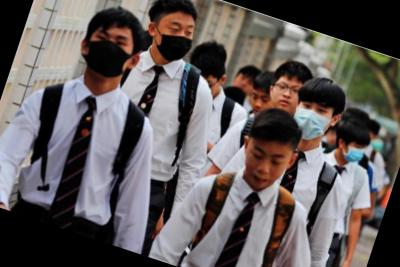with_mask: (79, 24, 137, 85), (149, 13, 200, 68), (288, 96, 336, 147), (343, 141, 367, 168)
without_mask: (239, 142, 293, 195), (269, 77, 304, 115), (245, 88, 272, 118), (231, 72, 257, 97)
